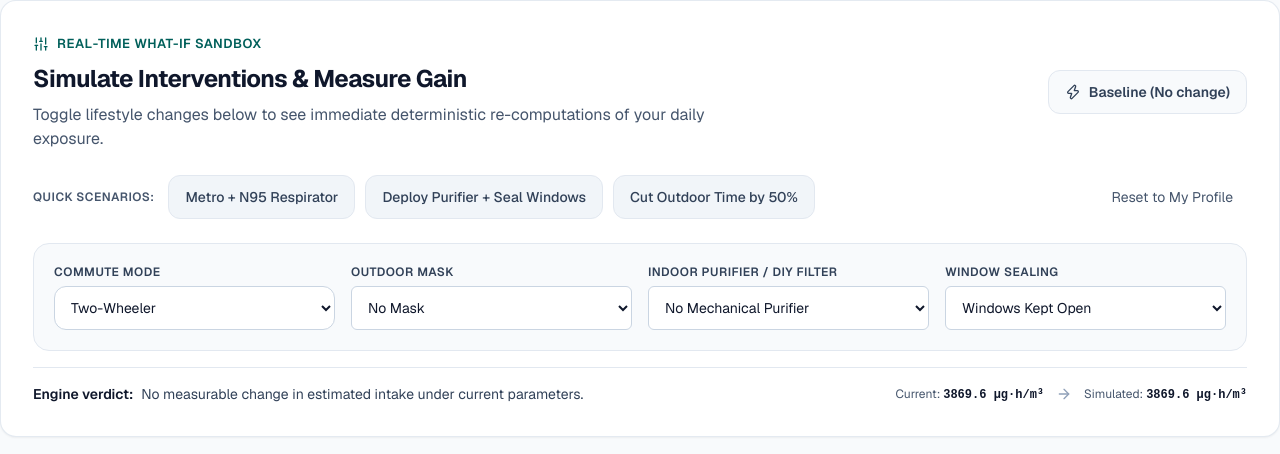
Scenario: WhatIfSimulator Interactive Component › renders simulator and updates live dose comparison when quick scenario is triggered
This screenshot has width=1280, height=454.
expect the heading "Simulate Interventions & Measure Gain" is shown: met, box x1=33 y1=63 x2=467 y2=94
# Click quick scenario: "Metro + N95 Respirator"
Click the button "Metro + N95 Respirator" at (262, 197), box x1=168 y1=175 x2=355 y2=219
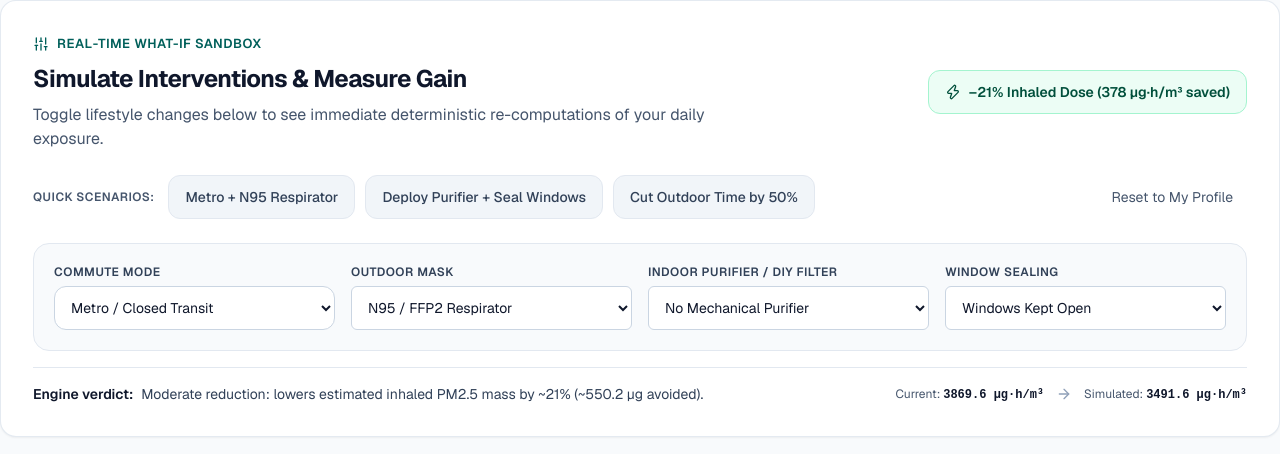
expect the message shows "Inhaled Dose": met, box x1=969 y1=83 x2=1230 y2=101
